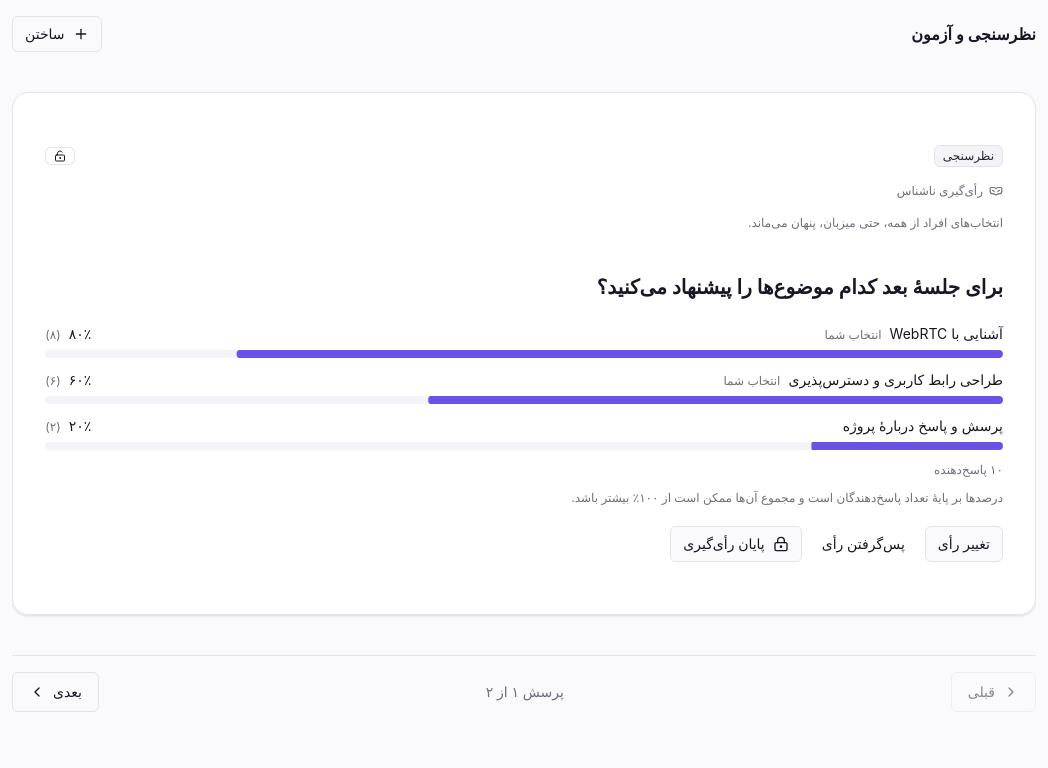
question slideshow › Persian navigation localizes numbering and mirrors arrow direction
Expected: the message reads "پرسش ۱ از ۲", [486,682,564,700]
Click the button "بعدی" at point(56, 692), box [12,672,99,712]
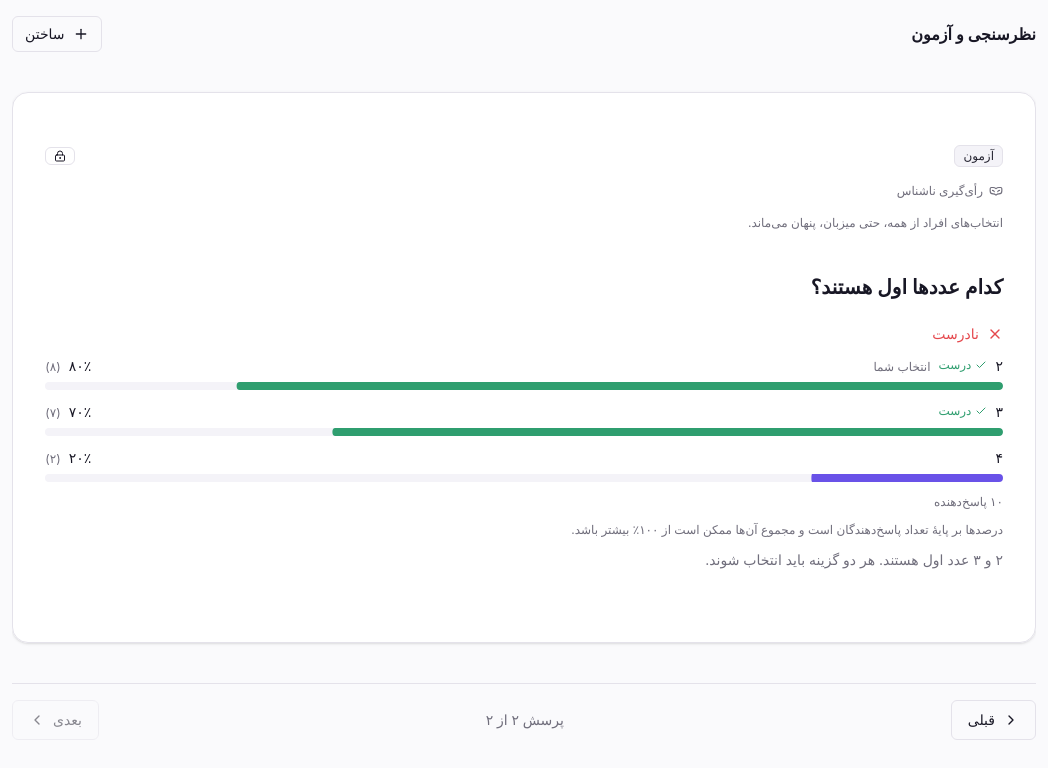
Result: the message reads "پرسش ۲ از ۲" at [486,710,564,728]
